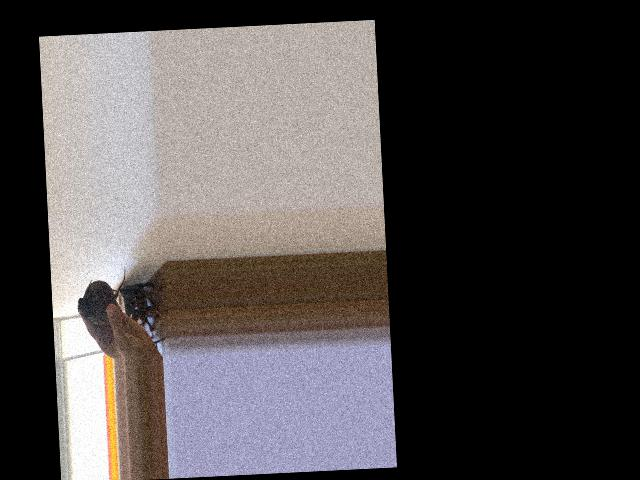beet: (75, 266, 128, 325)
